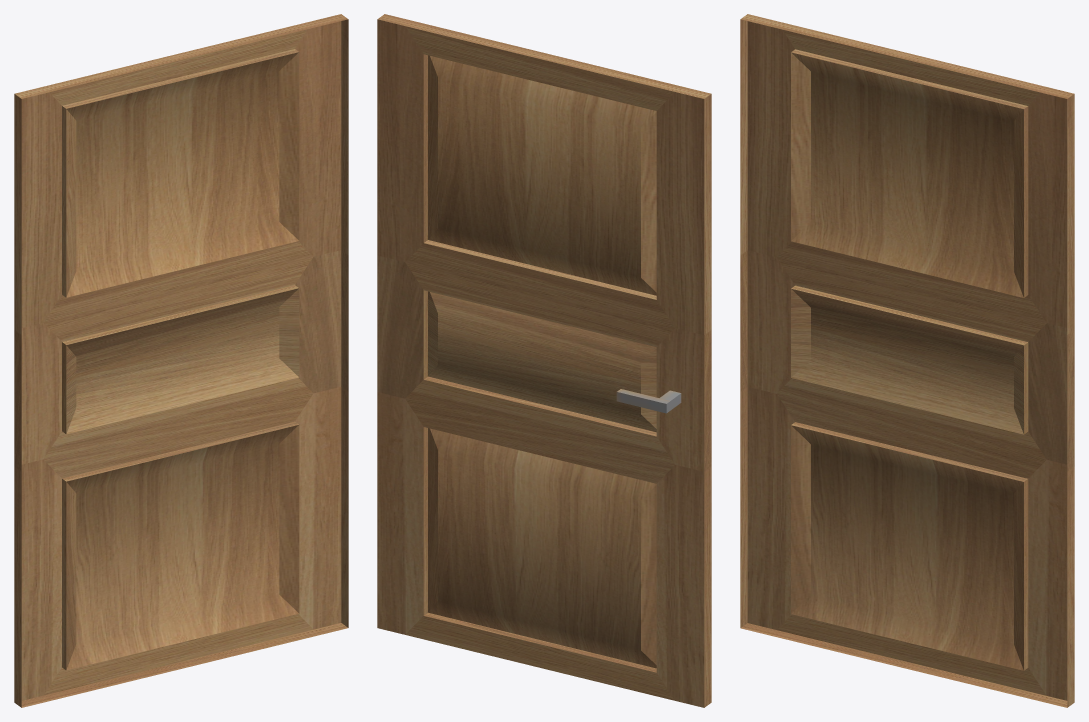
3 renders of one model, left to right at view 1: azimuth 30°, elevation 25°; view 2: azimuth 150°, elevation 25°; view 3: azimuth 330°, elevation 25°, orthographic.
Parts seen in each view (by area): view 1: Door V1; view 2: Door V1; view 3: Door V1.
Boxes of the visible parts, x1=… form: Door V1: x1=14, y1=14, x2=348, y2=707; Door V1: x1=377, y1=14, x2=711, y2=707; Door V1: x1=740, y1=14, x2=1074, y2=707.
Size of the model in its own units: 1.19 by 2.12 by 0.1391.
Materials: 1 (1 with a texture image).
